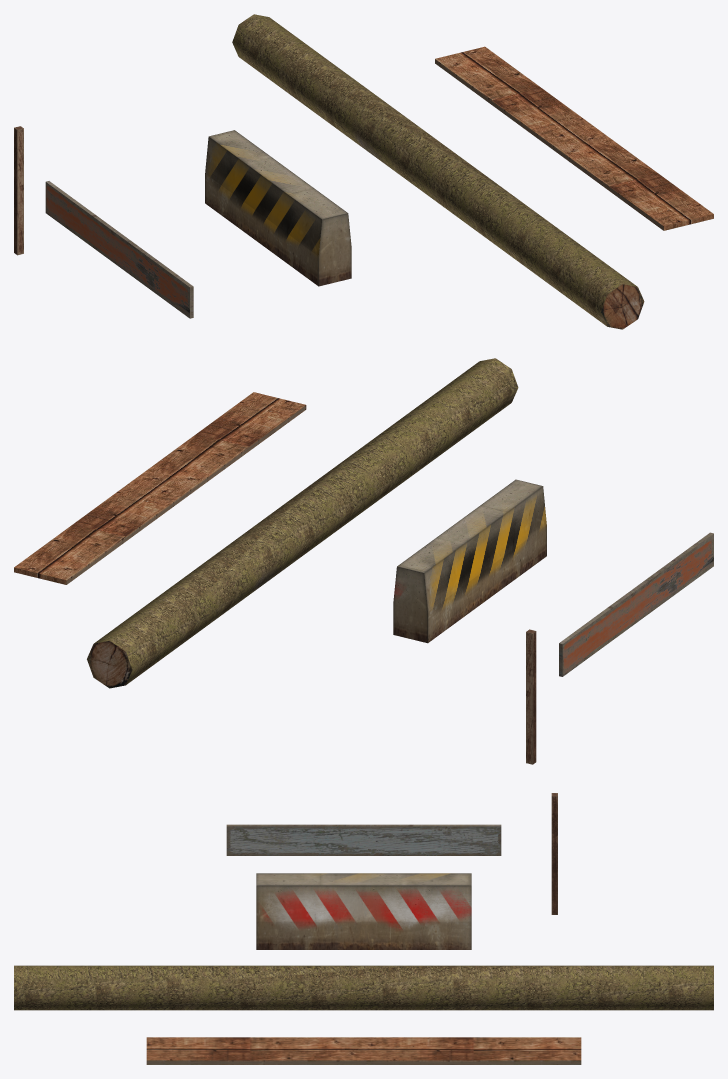
File: EvnObjects.fbx
3 renders of one model, top to bottom at view 1: azimuth 30°, elevation 25°; view 2: azimuth 150°, elevation 25°; view 3: azimuth 270°, elevation 25°, orthographic. The views are drawn at different scales.
Parts seen in each view (by area): view 1: log, roadblock, pathplank, plankHor, plankvertical; view 2: log, roadblock, pathplank, plankHor, plankvertical; view 3: log, roadblock, pathplank, plankHor, plankvertical.
Boxes of the visible parts, x1,y1,x2,y2 form: log: (232,14,644,329); roadblock: (205,130,351,286); pathplank: (435,46,713,230); plankHor: (45,181,193,318); plankvertical: (14,126,23,255); log: (87,358,518,688); roadblock: (393,479,546,643); pathplank: (14,392,306,584); plankHor: (559,532,713,676); plankvertical: (526,629,536,764); log: (14,965,713,1010); roadblock: (256,873,471,949); pathplank: (146,1037,581,1064); plankHor: (226,824,501,855); plankvertical: (551,793,557,914).
Bounding box in the file's own units: 2218 × 549 × 2931.
